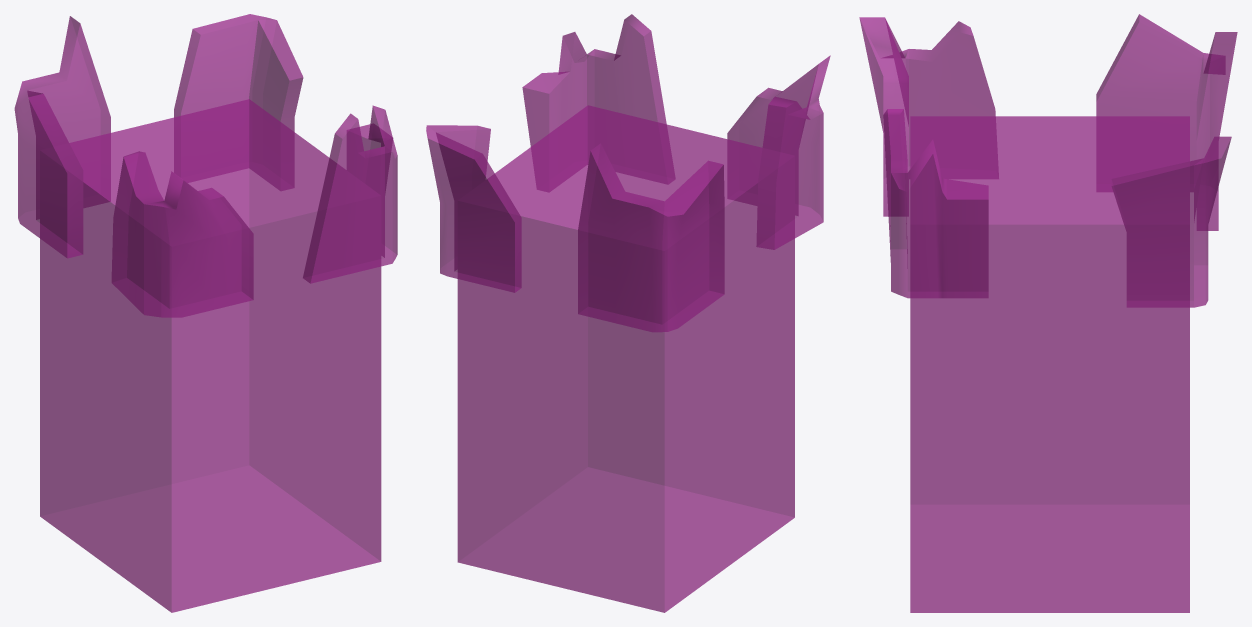
Rendered from SM_Bld_Tower_03_Collision.fbx.
3 renders of one model, left to right at view 1: azimuth 30°, elevation 25°; view 2: azimuth 150°, elevation 25°; view 3: azimuth 270°, elevation 25°, orthographic. The views are drawn at different scales.
Parts seen in each view (by area): view 1: SM_Bld_Tower_03_Collision; view 2: SM_Bld_Tower_03_Collision; view 3: SM_Bld_Tower_03_Collision.
Boxes of the visible parts, x1,y1,x2,y2 form: SM_Bld_Tower_03_Collision: (14, 14, 397, 612); SM_Bld_Tower_03_Collision: (426, 14, 830, 612); SM_Bld_Tower_03_Collision: (859, 14, 1237, 612).
Bounding box in the file's own units: 392 × 642 × 440.
